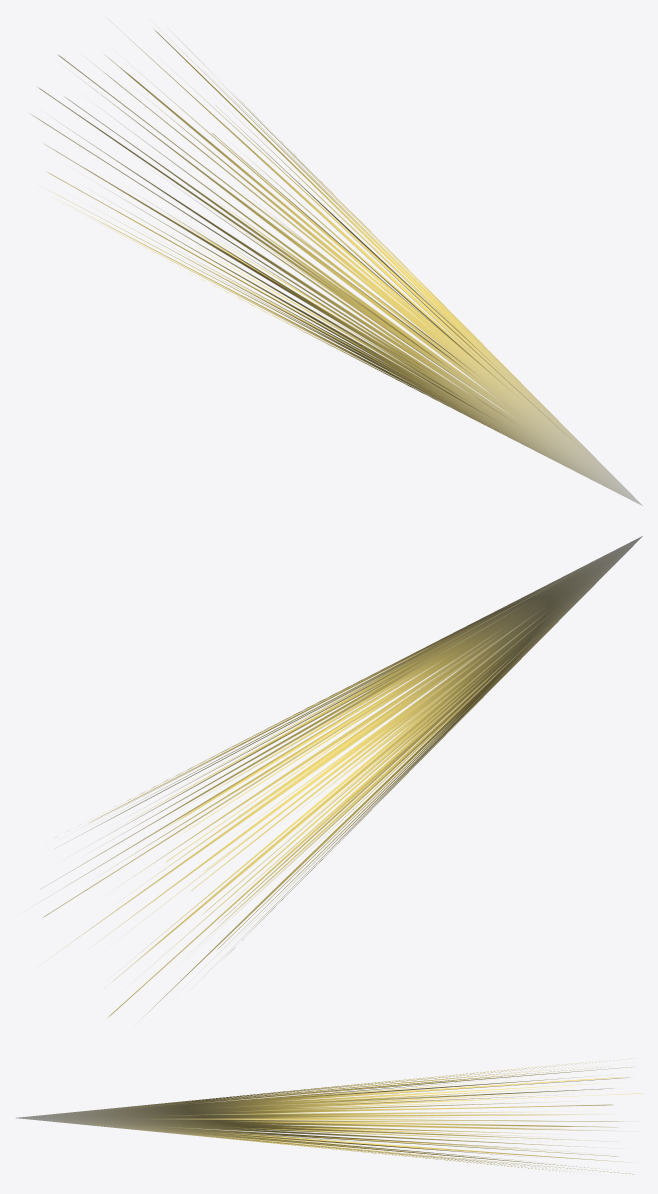
The model's file is stab_effect.glb.
3 views of the same model, one above another, from view 1: azimuth 30°, elevation 25°; view 2: azimuth 150°, elevation 25°; view 3: azimuth 270°, elevation 25° (orthographic). The views are drawn at different scales.
Visible parts, largest first — view 1: StabEffect; view 2: StabEffect; view 3: StabEffect.
Boxes of the visible parts, box(x1,y1,x2,y2) form: StabEffect: box(31, 29, 642, 505); StabEffect: box(41, 536, 642, 1017); StabEffect: box(16, 1058, 643, 1174).
Size of the model in its own units: 2 by 2 by 10.17.
1 material, 1 textured.
